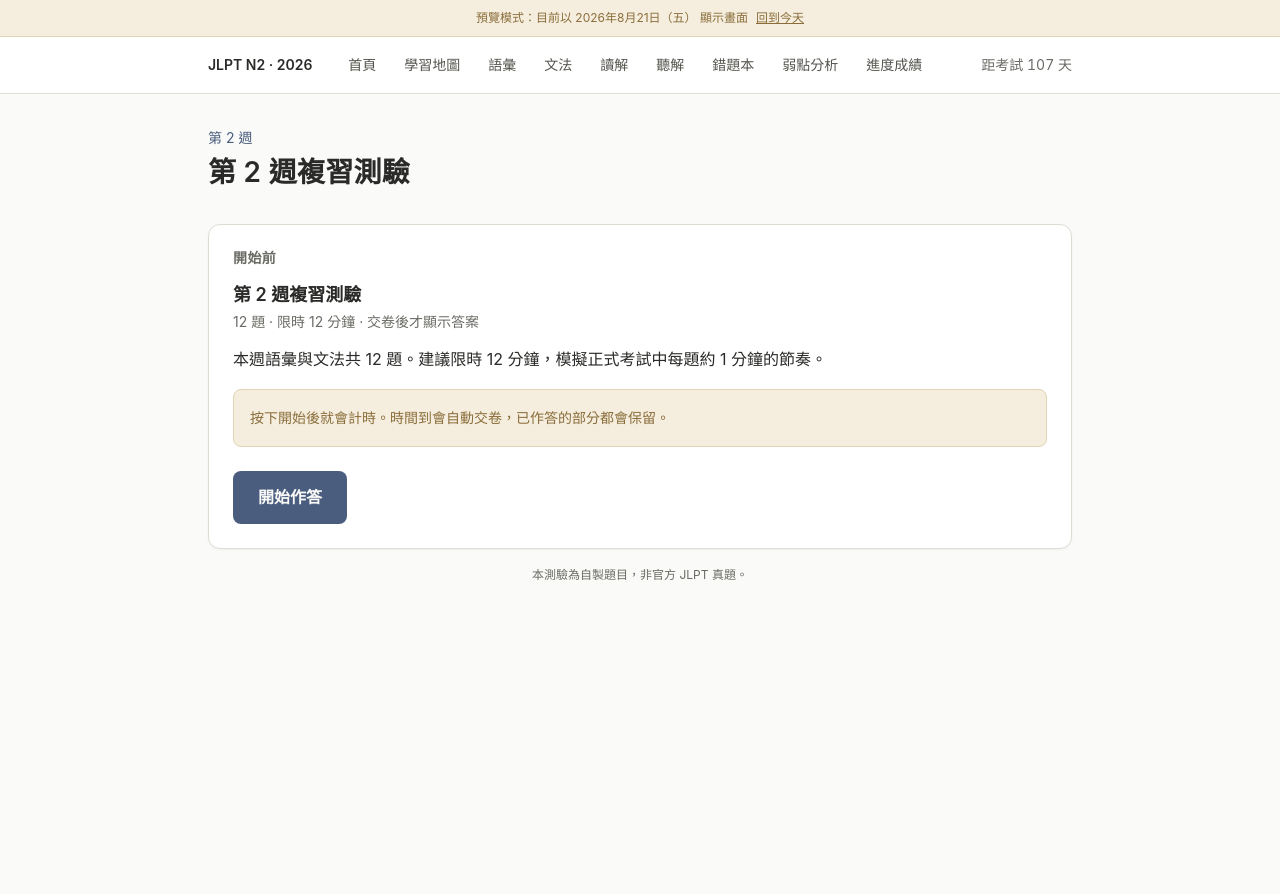
Test: 測驗作答流程 › 鍵盤按 1–4 可以選答案
The image size is (1280, 894).
Click the button "開始作答" at (290, 498), box [233,471,347,524]
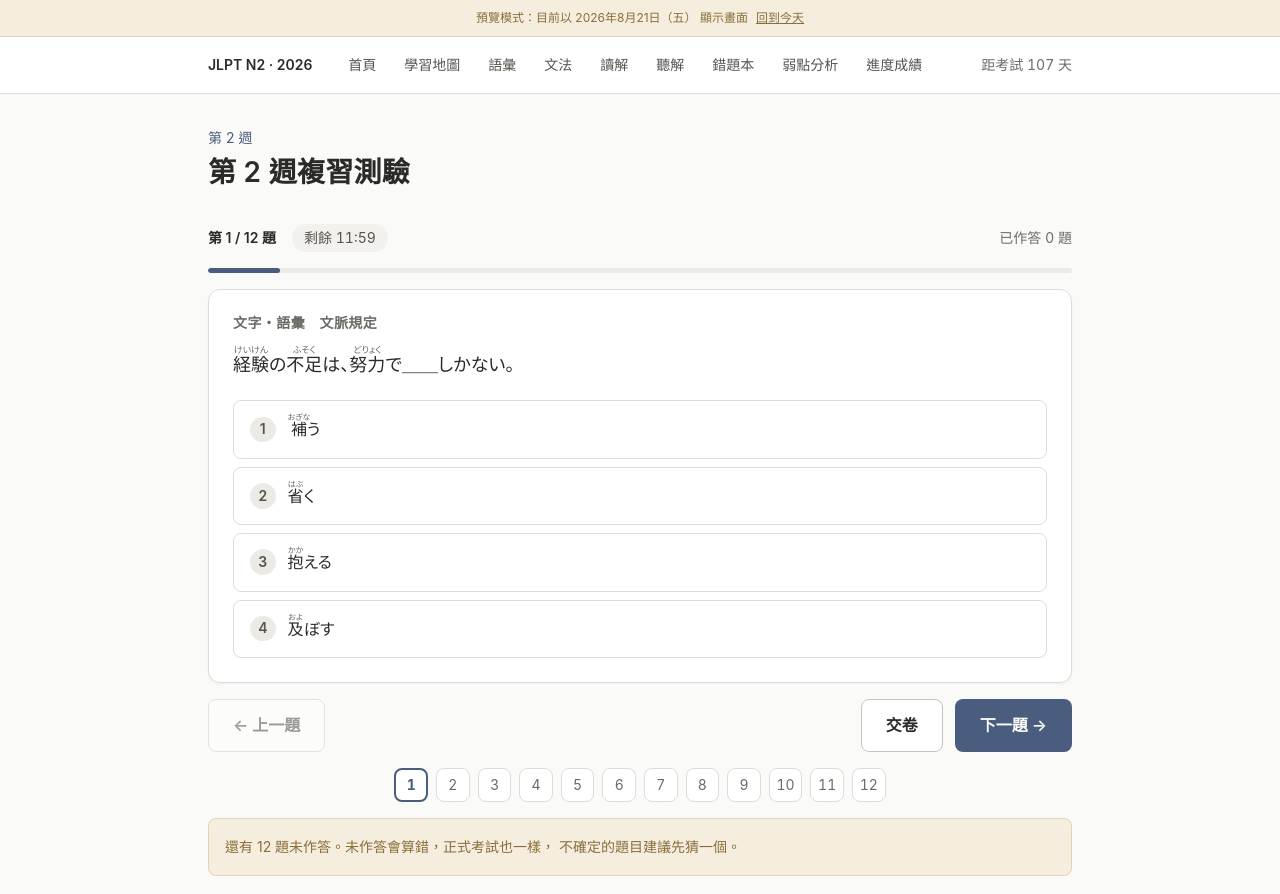
Type keys "2"
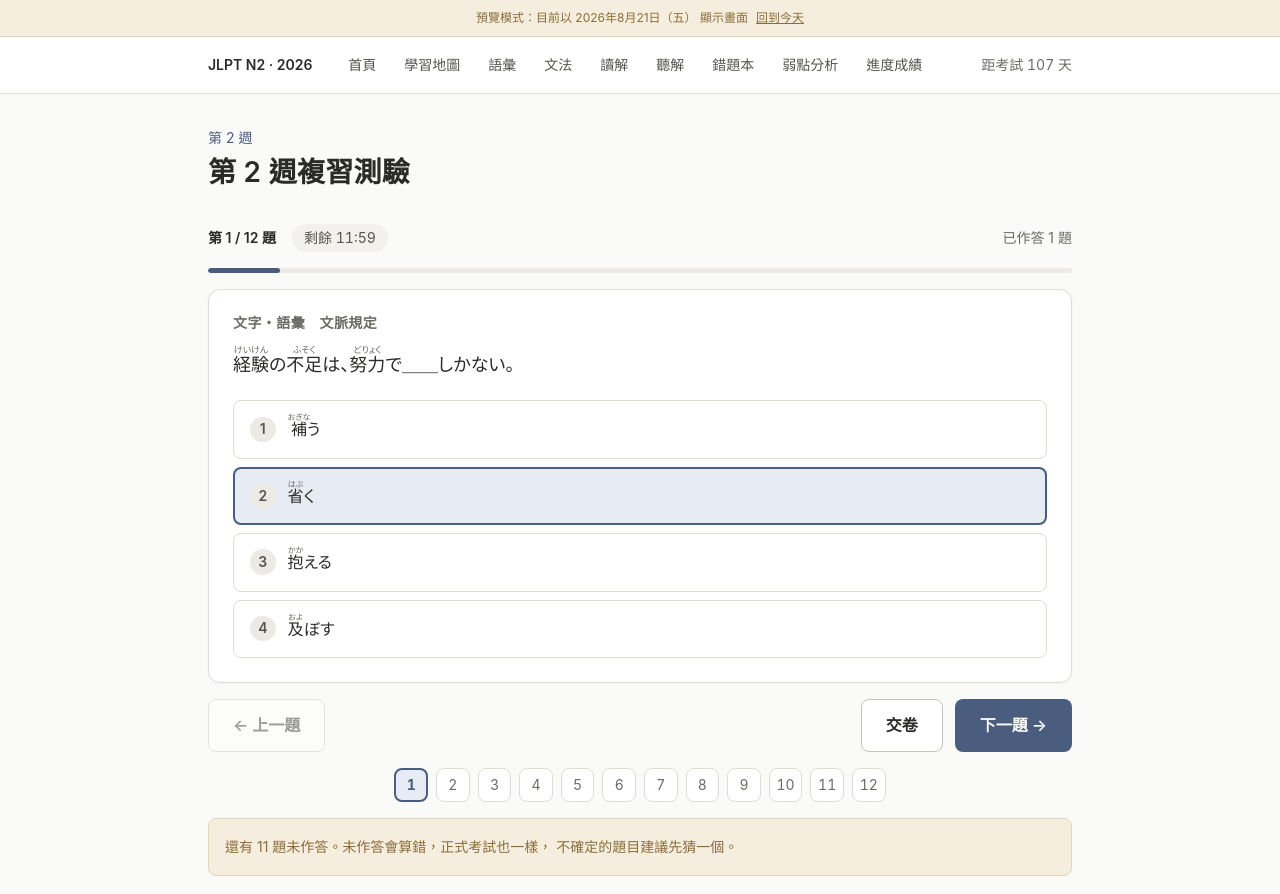
Expected: the text "已作答 1 題" is shown, [1002,226,1072,250]
